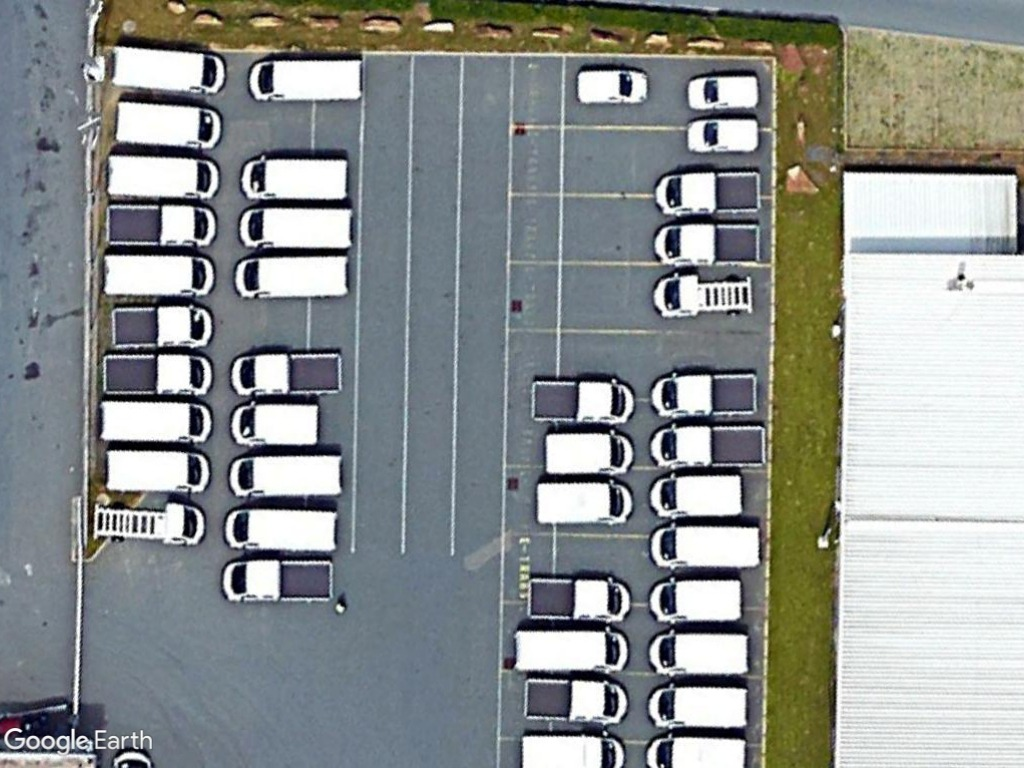others: (645, 416, 771, 473), (96, 344, 219, 400), (216, 554, 341, 608), (519, 671, 634, 728), (651, 163, 766, 220), (645, 366, 765, 420), (521, 569, 636, 624), (223, 348, 349, 398), (106, 299, 219, 353), (100, 200, 223, 249), (650, 217, 768, 268), (525, 376, 642, 427)
van: (242, 49, 369, 106), (232, 248, 357, 305), (235, 200, 356, 258), (645, 518, 768, 575), (220, 502, 346, 557), (100, 246, 219, 303), (106, 42, 229, 97), (100, 147, 223, 202), (224, 448, 347, 503), (108, 96, 226, 153), (235, 150, 357, 205), (508, 623, 632, 677), (94, 394, 217, 448), (98, 442, 215, 497), (530, 475, 638, 531), (645, 567, 749, 624), (645, 678, 756, 731), (642, 468, 749, 521), (645, 627, 755, 678), (226, 397, 325, 451), (536, 427, 636, 478), (511, 728, 633, 768), (641, 731, 753, 768), (571, 62, 657, 110), (680, 112, 766, 156), (680, 70, 765, 113)
